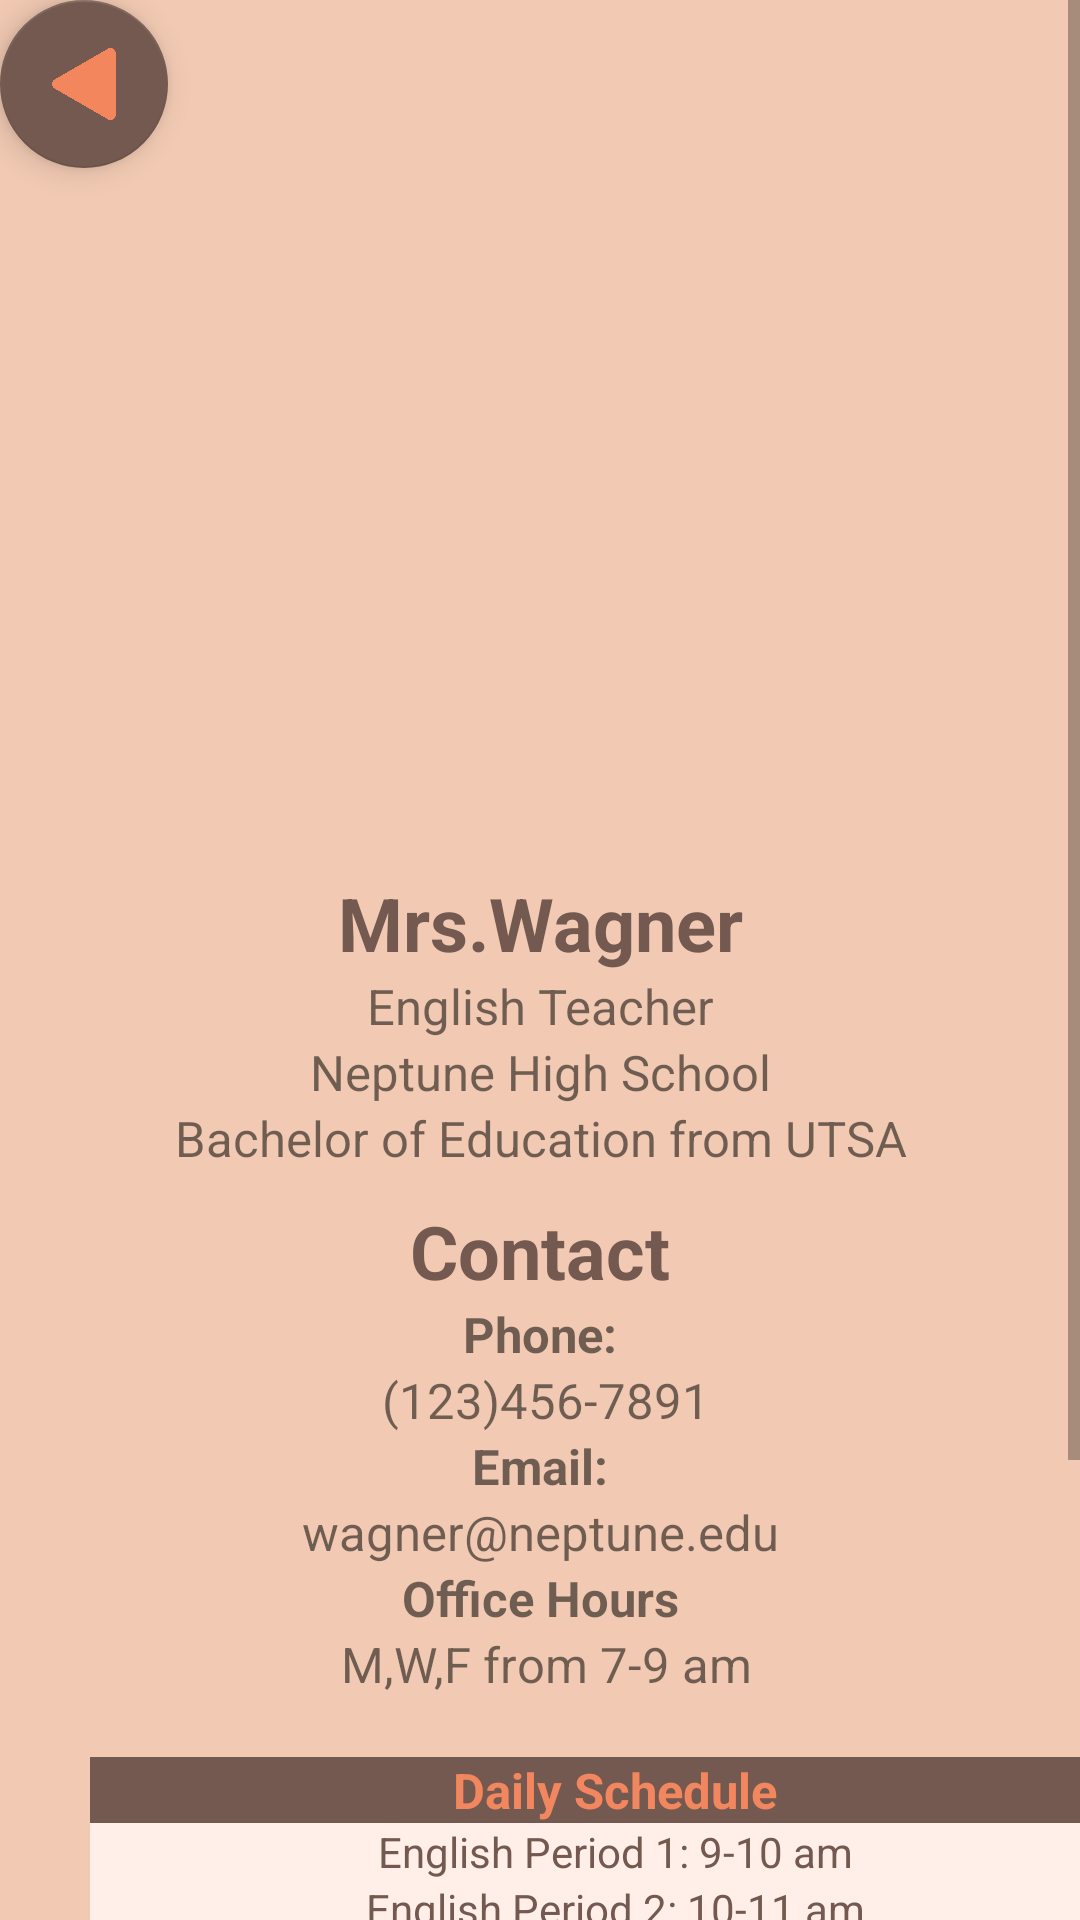

Screen size 1080px×1920px. Icon name, then its box in pixels as [x1, y1, x2, y2]:
back: [0, 0, 168, 168]
